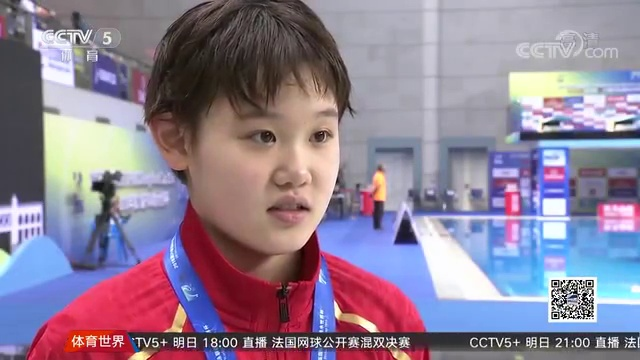face: (207, 82, 340, 247)
